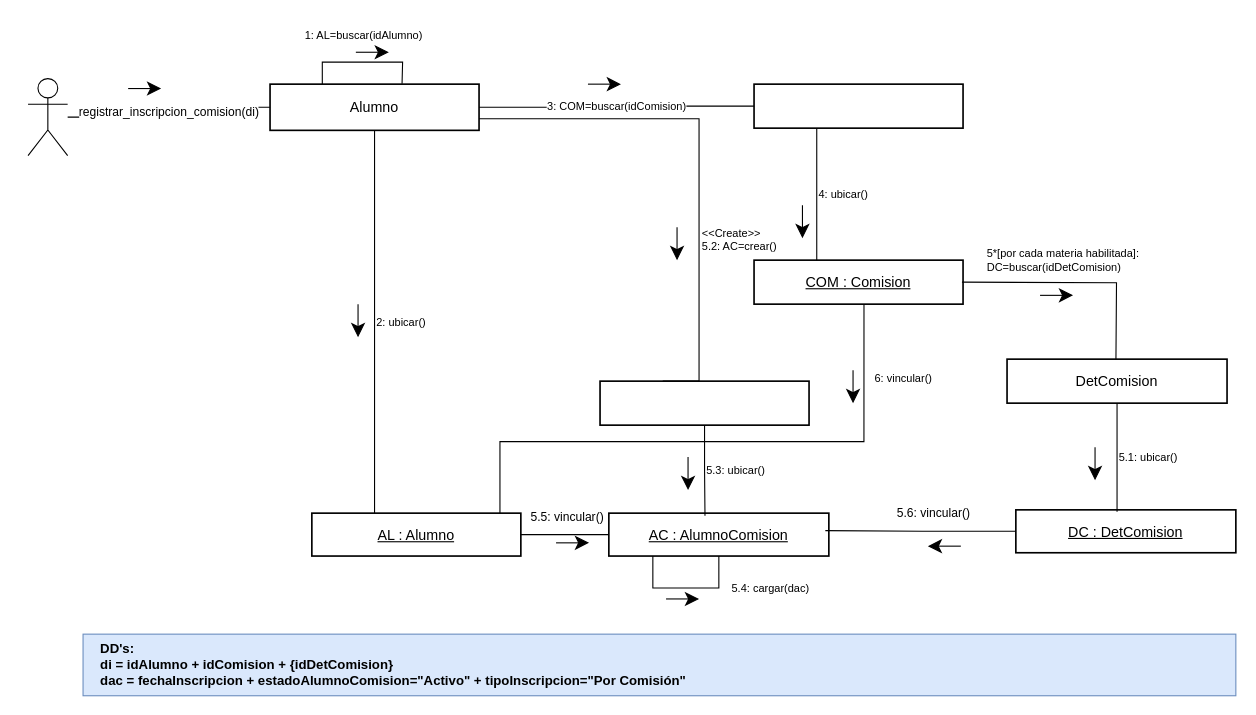
Some shapes in this 1256 by 715 pixel diagram are drawn without their labels. Each missing label, with the centre of its shape:
AlumnoComision: point (704, 402)
Comision: point (858, 105)
Preceptor: point (47, 117)
